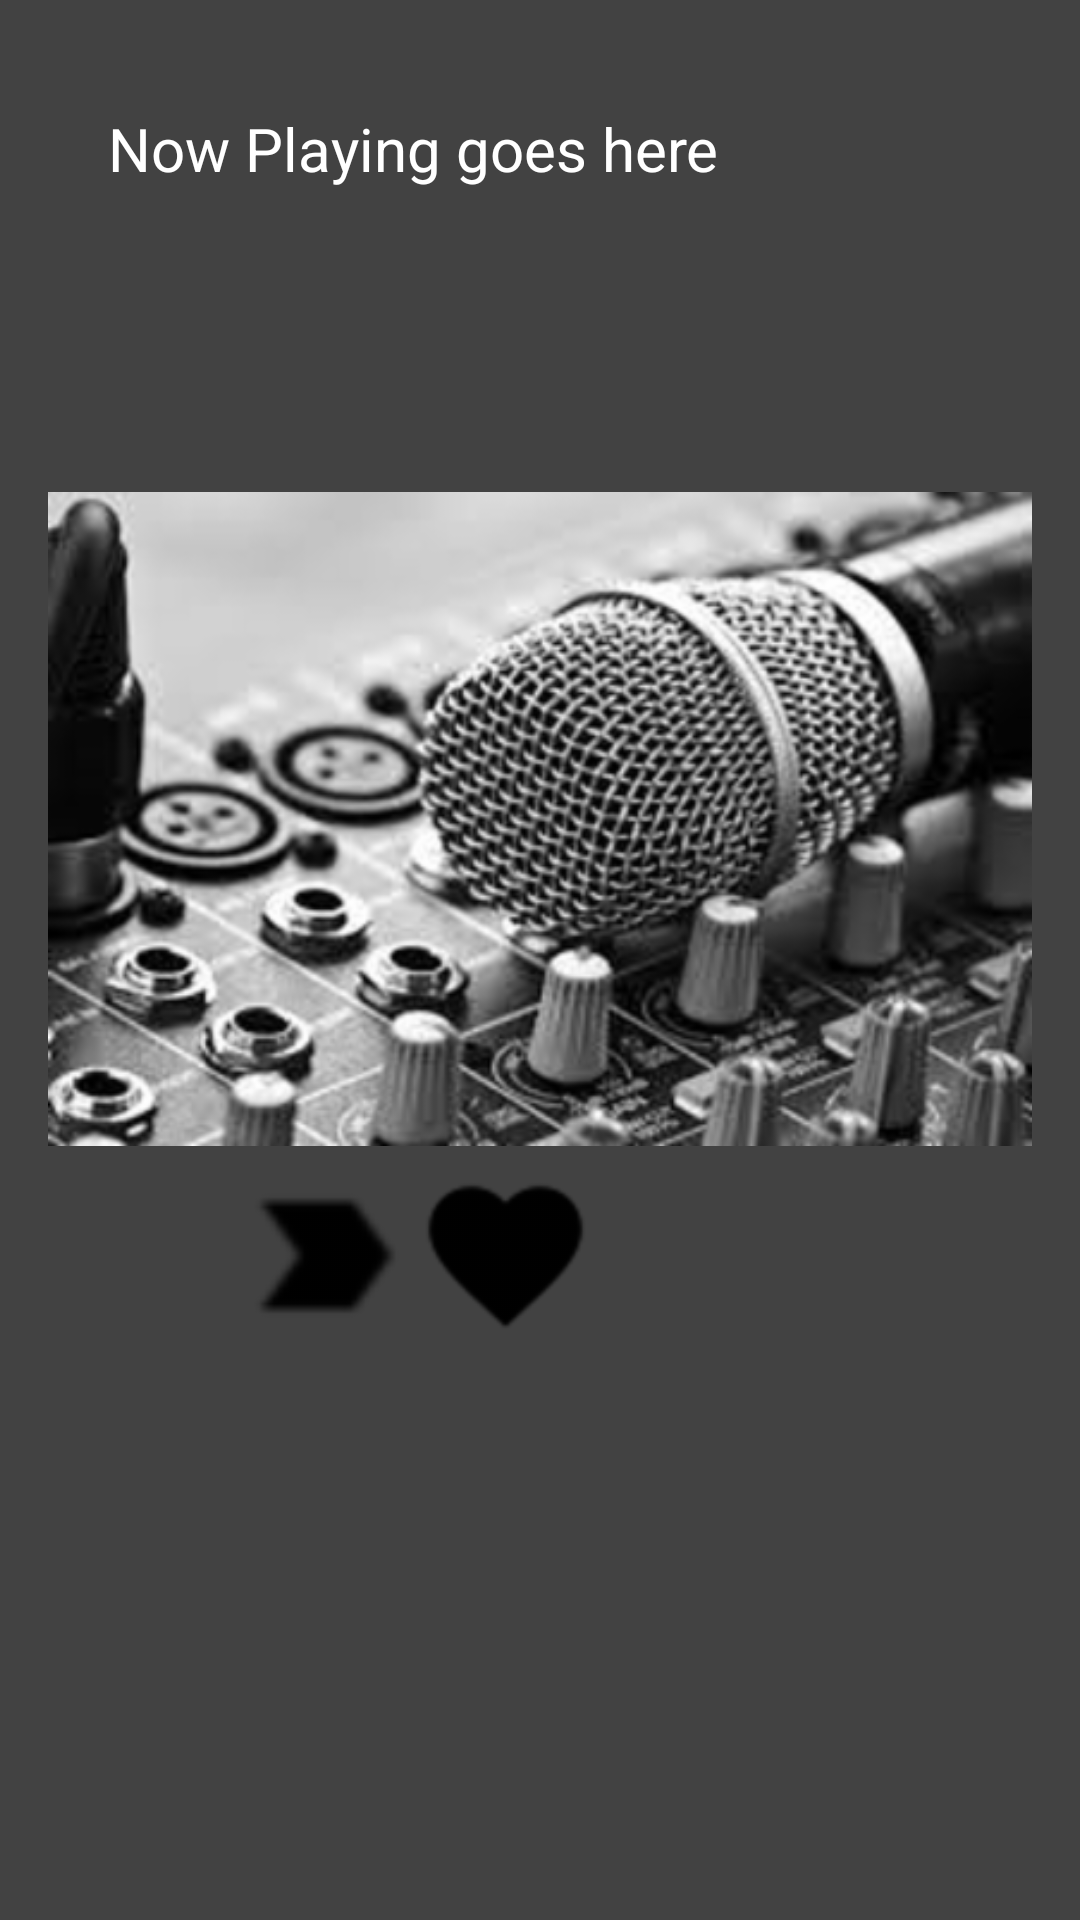

Where icons sit on this 1080w x 1920h app screen, as (x1,y1,x2,y2):
favorites: (429,1186,582,1326)
play: (263,1201,390,1310)
